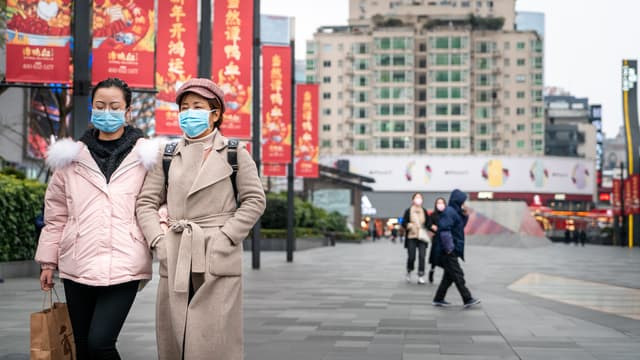with_mask: (176, 90, 222, 138), (87, 89, 130, 136)
